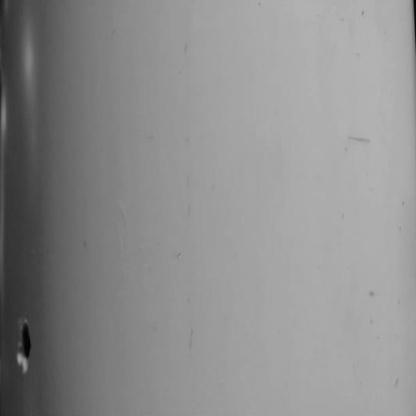kongdong: (13, 314, 43, 375)
